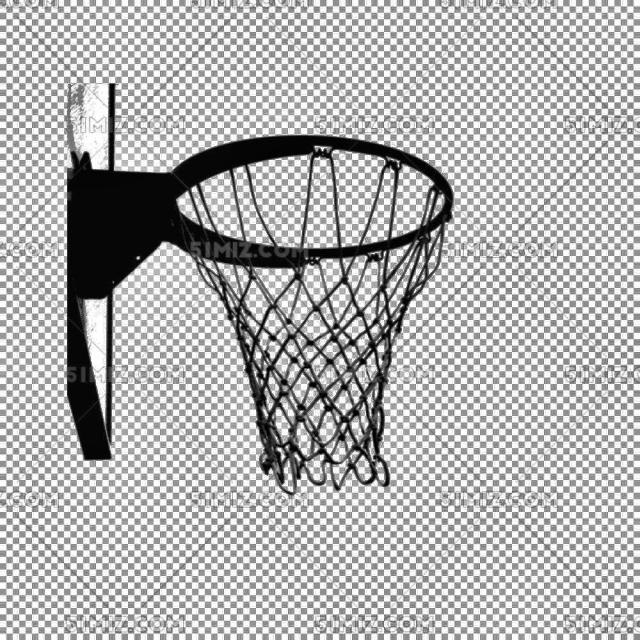rim: (173, 133, 450, 492)
